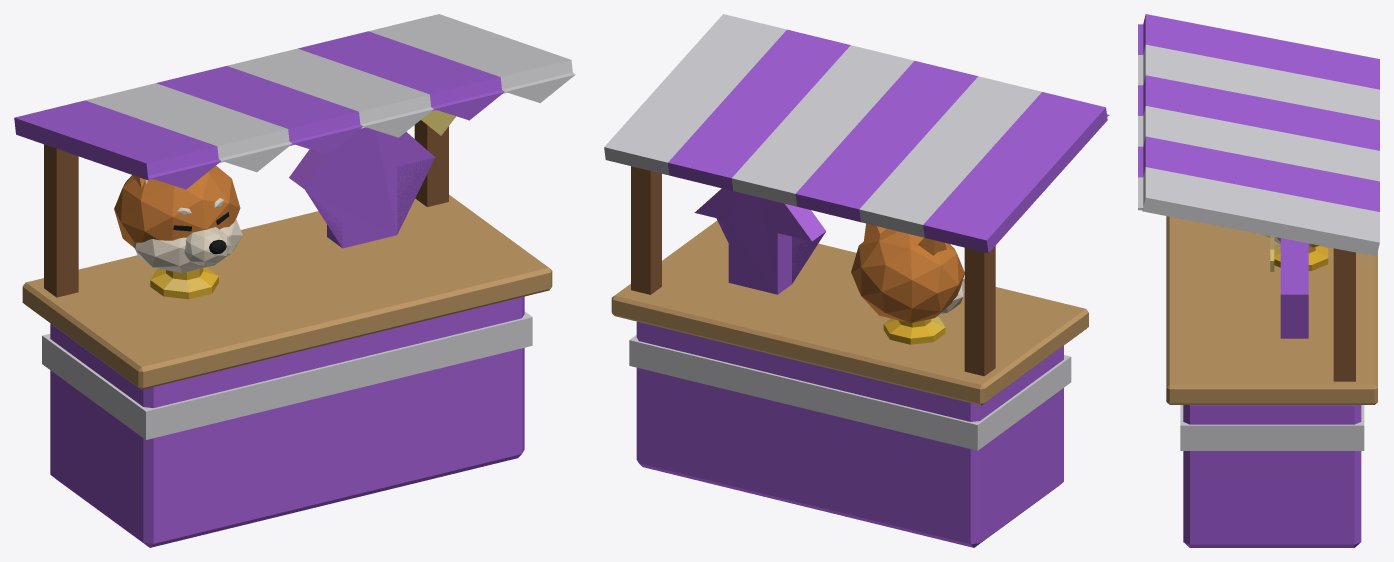
The model's file is Prop_UpgradeStand_ShooterTier.fbx.
The picture shows the model from 3 angles, left to right: view 1: azimuth 30°, elevation 25°; view 2: azimuth 150°, elevation 25°; view 3: azimuth 270°, elevation 25°; orthographic projection. The views are drawn at different scales.
Parts seen in each view (by area): view 1: Body; view 2: Body; view 3: Body.
Part boxes in pixels (x1,y1,x2,y2): Body: (14, 14, 575, 547); Body: (604, 14, 1109, 547); Body: (1138, 14, 1379, 547).
Size of the model in its own units: 7.8 by 7.18 by 4.34.
